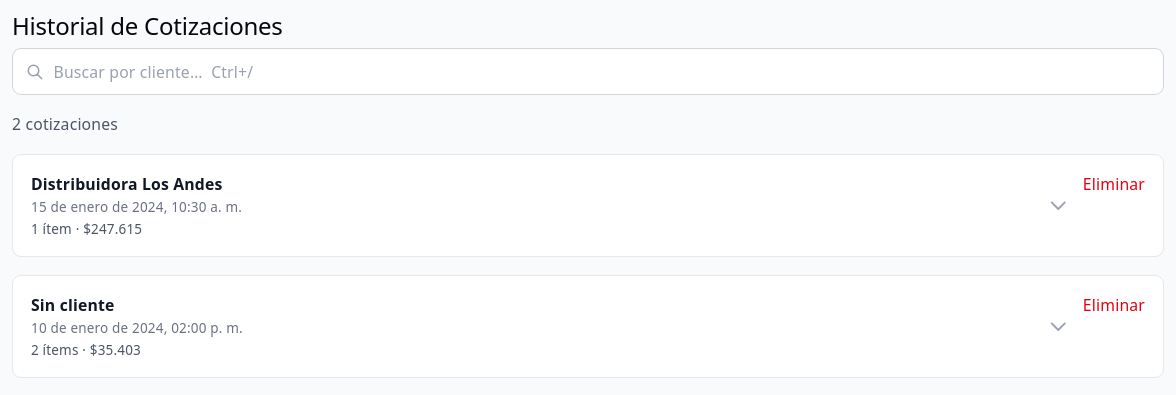
Test: QuoteHistory › client search › matches quotes without a client when typing "sin cliente"
The image size is (1176, 395).
Expected: the text "Distribuidora Los Andes" is shown, [31,173,242,195]
Step 1. Type "sin cliente" into the field named "buscar cotizaciones por cliente" → (588, 72), box [12,48,1164,95]
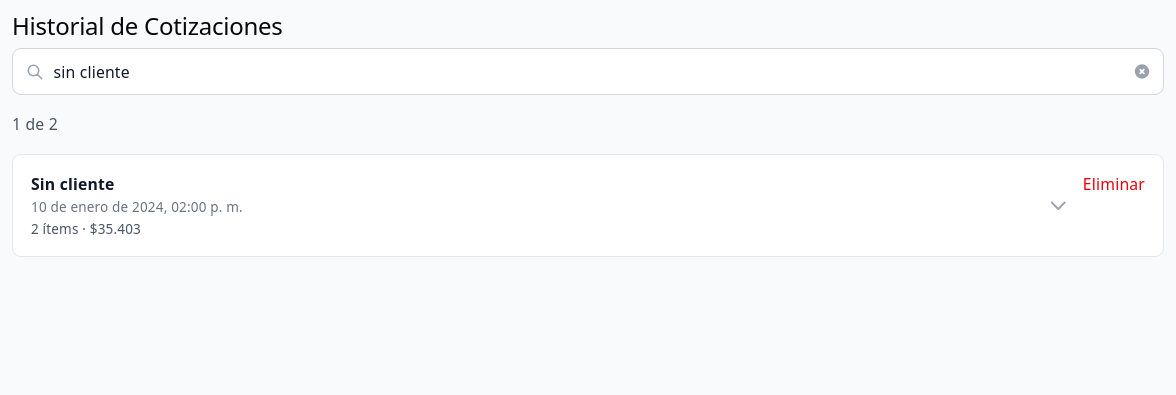
Expected: the text "Sin cliente" is shown, [31,173,114,195]
Now the text "1 de 2" is shown, box [12,113,58,135]
Now the button "Distribuidora Los Andes" is gone
